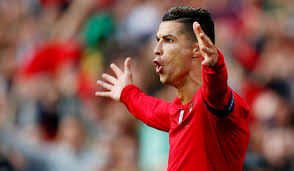No-Glasses: (152, 33, 186, 48)
